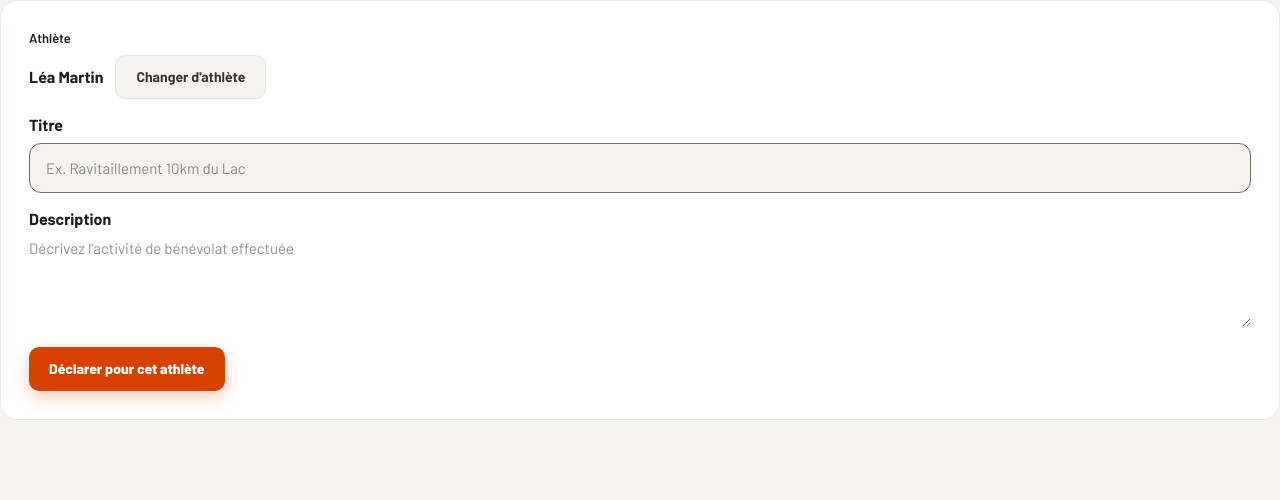
Test case: VolunteerActionForm › membre rattaché à sa fiche (#1672) › donne le focus à la recherche et propose de revenir à sa fiche
Click the button "Changer d'athlète": (191, 76) [116, 54, 266, 98]
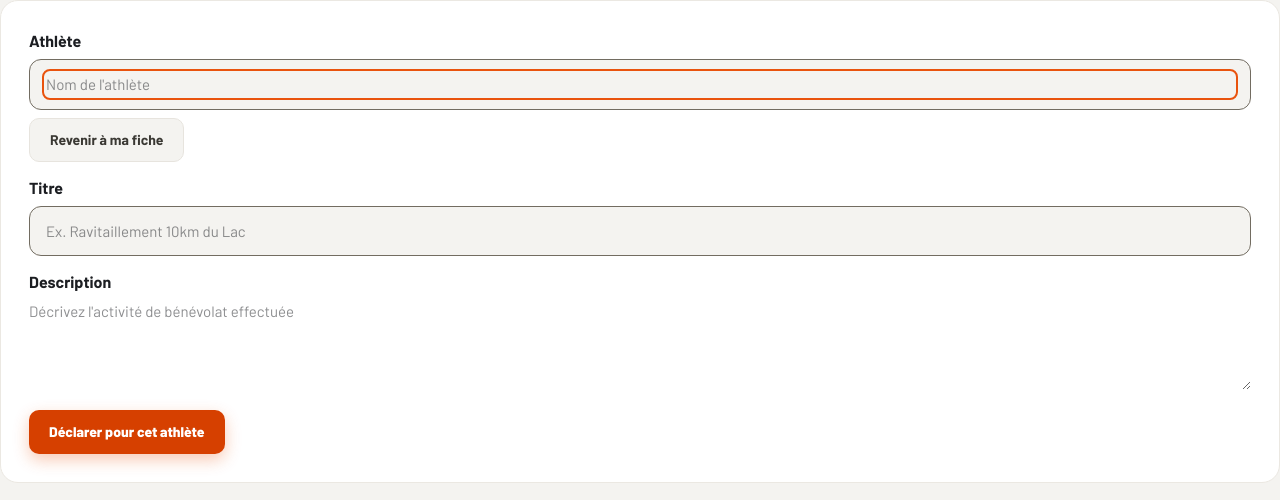
Click the button "Revenir à ma fiche": (107, 140) [29, 118, 184, 162]
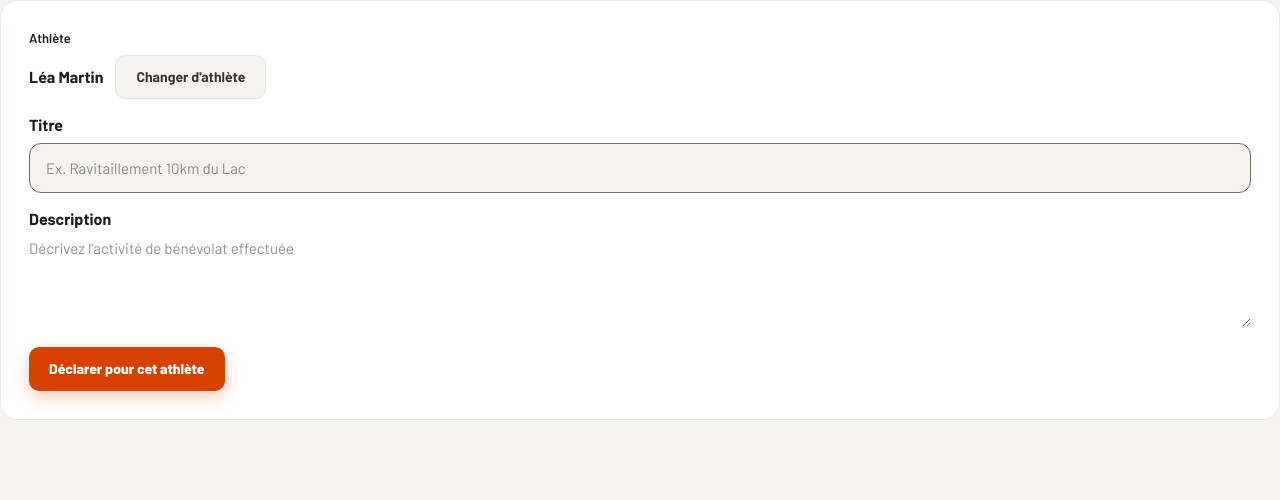
Expected: the text "Léa Martin" is shown, [29, 64, 104, 88]
